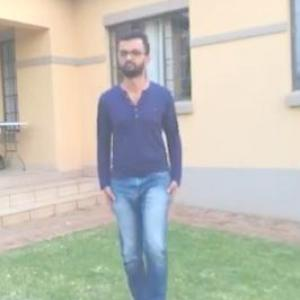follow: (94, 24, 182, 286)
